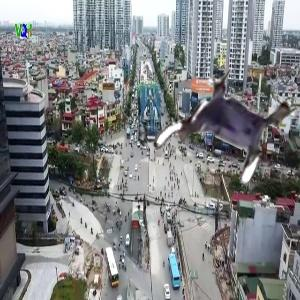drone: (162, 62, 293, 193)
